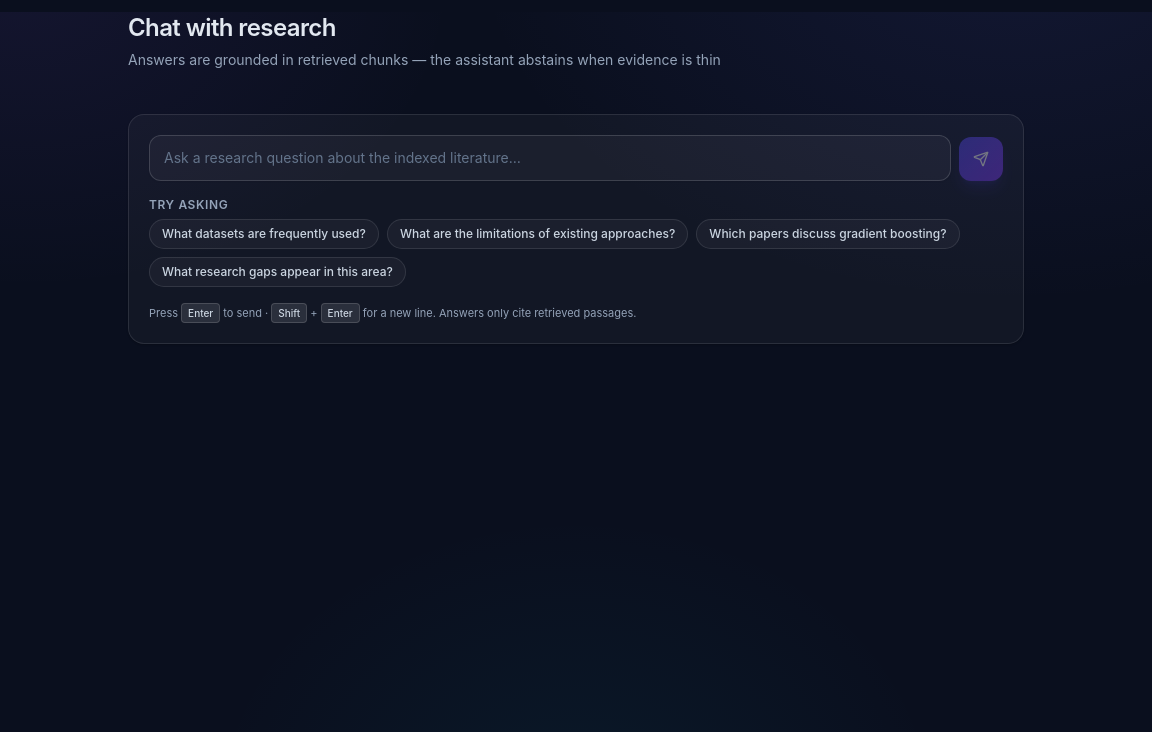
it: grounded chat › sends a question and renders the grounded answer with its references
In the text box with placeholder "Ask a research question about the indexed literature…": (550, 158) [149,135,951,181], type "how is phishing detected?"
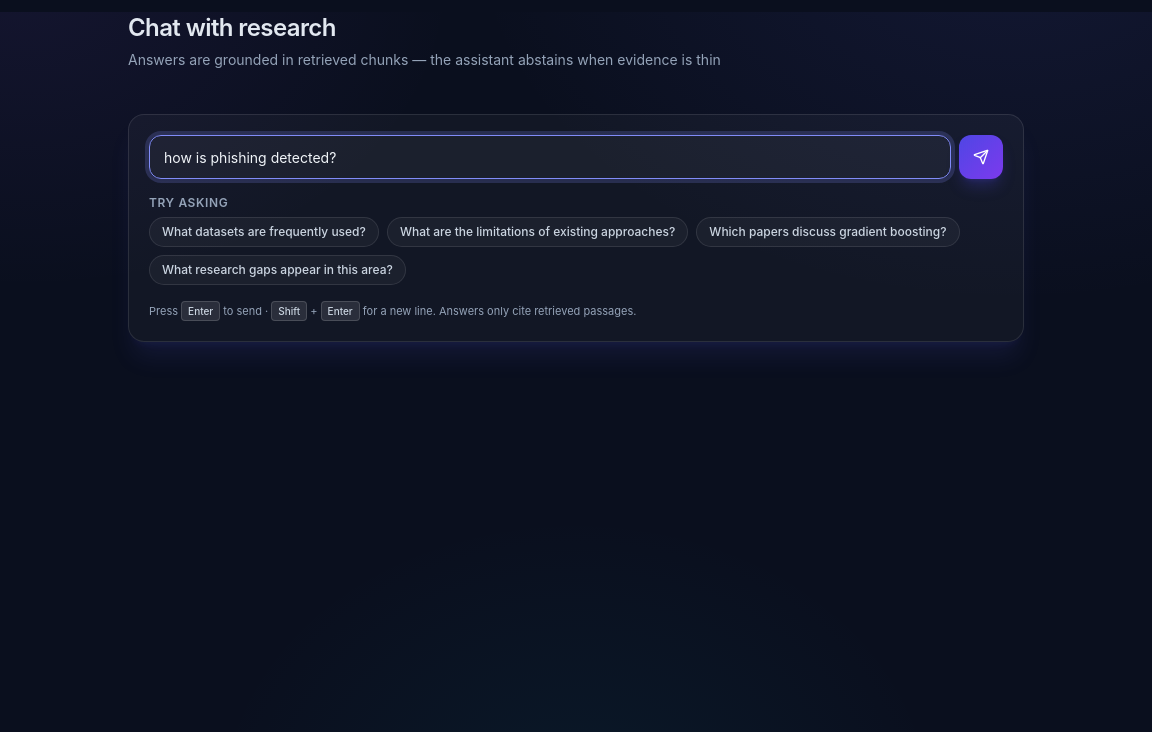
Click the button named "Send": (981, 157) [959,135,1003,179]
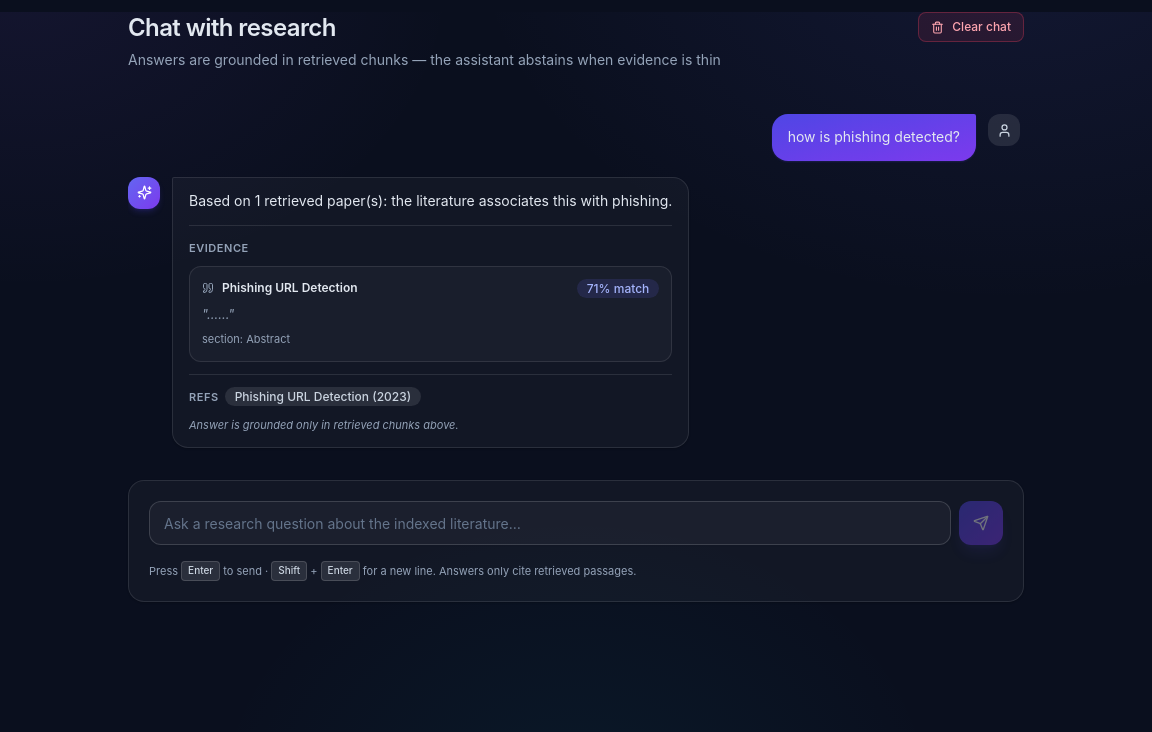
Now the text "the literature associates this with phishing" is shown, box [189,192,672,209]
Now the text "Phishing URL Detection" is shown, box [222,280,358,296]
Now the text "71% match" is shown, box [577,278,659,298]
